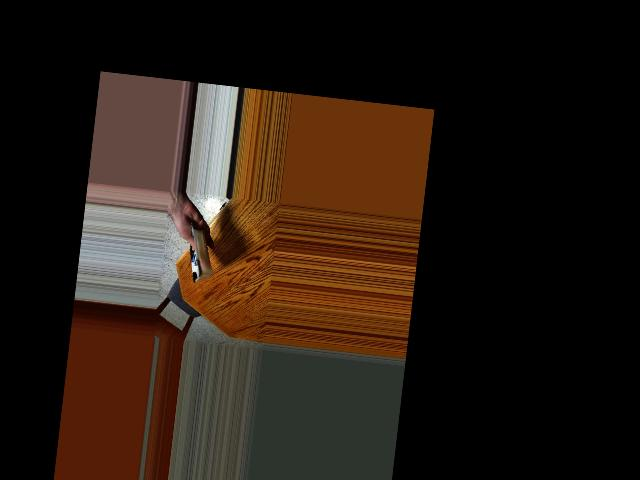cheese: (173, 226, 222, 282)
